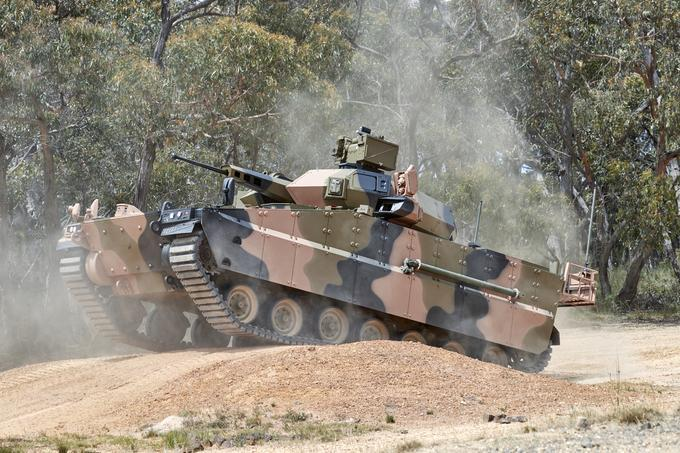MIL_IFV: (57, 123, 598, 377)
